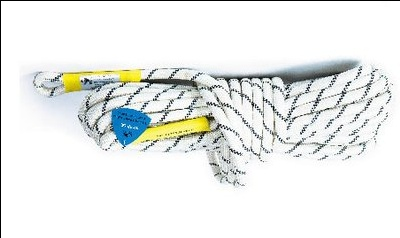9/可回收垃圾/绳子: (32, 64, 396, 189)
